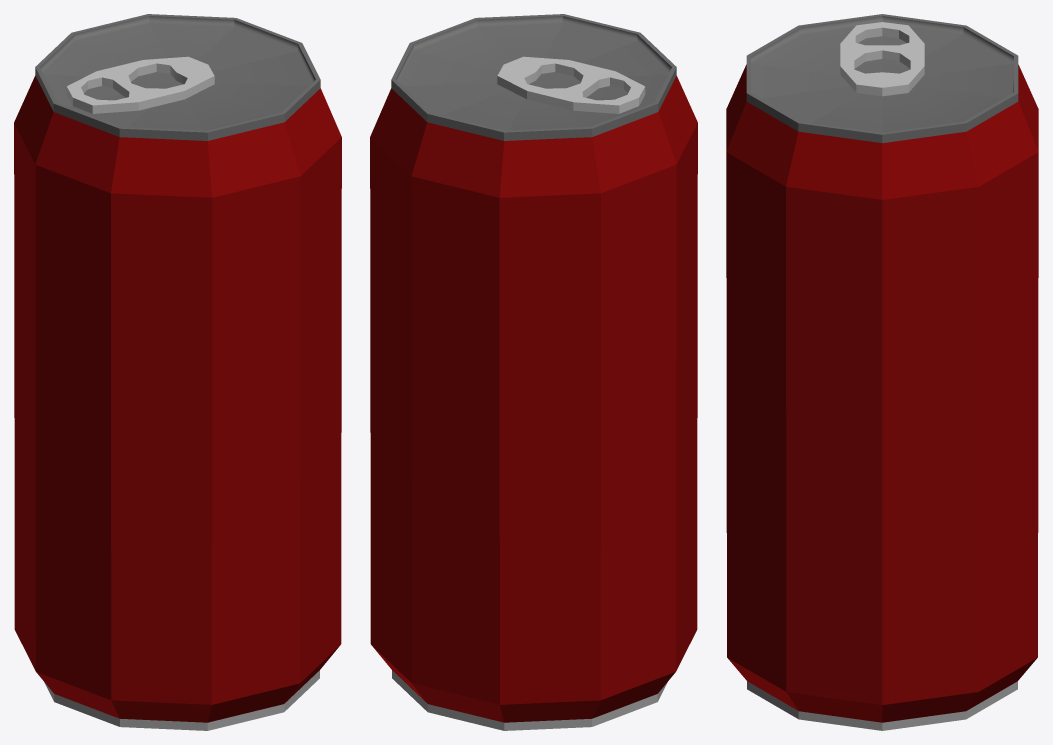
File: Low Poly Drink Can.fbx
3 renders of one model, left to right at view 1: azimuth 30°, elevation 25°; view 2: azimuth 150°, elevation 25°; view 3: azimuth 270°, elevation 25°, orthographic.
Visible parts, largest first — view 1: Can_Main1; view 2: Can_Main1; view 3: Can_Main1.
Part boxes in pixels (left/top/right/bottom): Can_Main1: left=14, top=14, right=341, bottom=730; Can_Main1: left=370, top=14, right=697, bottom=730; Can_Main1: left=726, top=14, right=1038, bottom=730.
Size of the model in its own units: 1.98 by 3.97 by 1.88.
